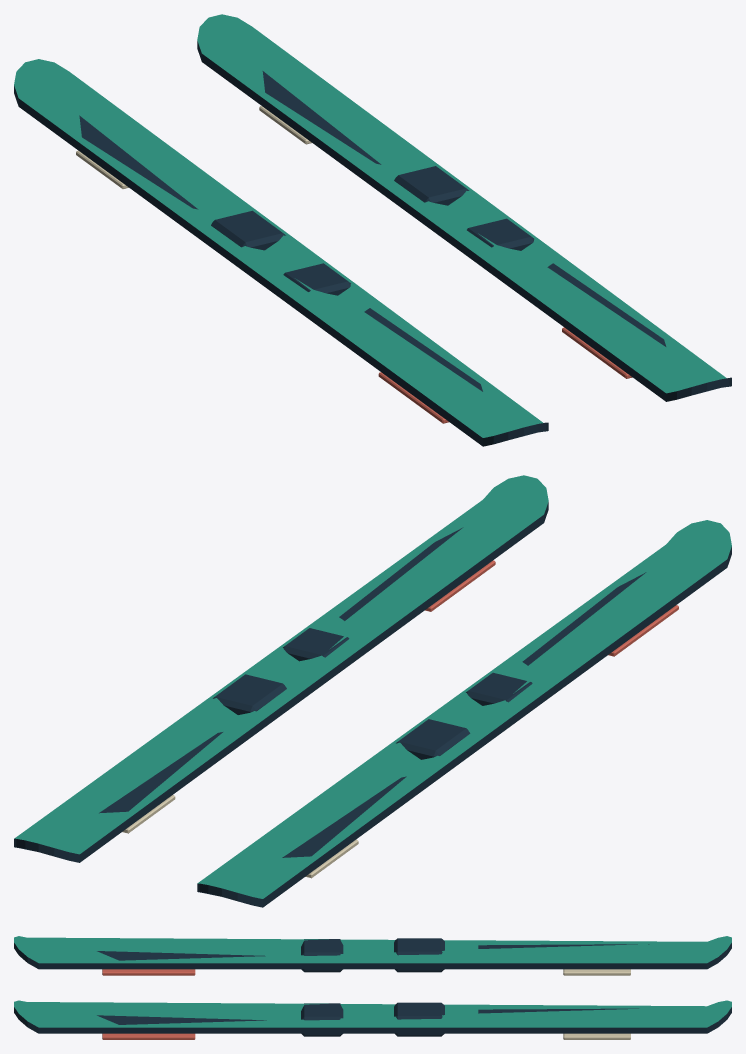
File: skis.glb
The picture shows the model from 3 angles, top to bottom: view 1: azimuth 30°, elevation 25°; view 2: azimuth 150°, elevation 25°; view 3: azimuth 270°, elevation 25°; orthographic projection. The views are drawn at different scales.
Parts seen in each view (by area): view 1: ski_left, ski_right, binding_right, binding_left; view 2: ski_left, ski_right, binding_right, binding_left; view 3: ski_left, ski_right, binding_right, binding_left, ski_accent_left, ski_accent_right, ski_tip_accent_right, ski_tip_accent_left.
Boxes of the visible parts, x1=… form: ski_left: x1=14, y1=59, x2=548, y2=446; ski_right: x1=197, y1=14, x2=731, y2=401; binding_right: x1=394, y1=166, x2=534, y2=250; binding_left: x1=211, y1=210, x2=350, y2=295; ski_left: x1=197, y1=520, x2=731, y2=907; ski_right: x1=14, y1=475, x2=548, y2=862; binding_right: x1=213, y1=628, x2=349, y2=714; binding_left: x1=396, y1=672, x2=532, y2=759; ski_left: x1=14, y1=936, x2=731, y2=969; ski_right: x1=14, y1=1000, x2=731, y2=1033; binding_right: x1=301, y1=1002, x2=444, y2=1036; binding_left: x1=301, y1=938, x2=444, y2=972; ski_accent_left: x1=102, y1=969, x2=195, y2=975; ski_accent_right: x1=102, y1=1033, x2=195, y2=1039; ski_tip_accent_right: x1=563, y1=1033, x2=630, y2=1039; ski_tip_accent_left: x1=563, y1=969, x2=630, y2=975.
Bounding box in the file's own units: 0.48 × 0.0695 × 1.7.
